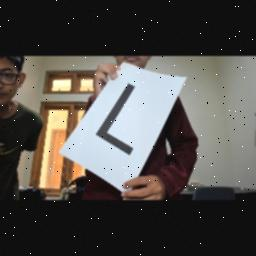l: (91, 81, 159, 155)
